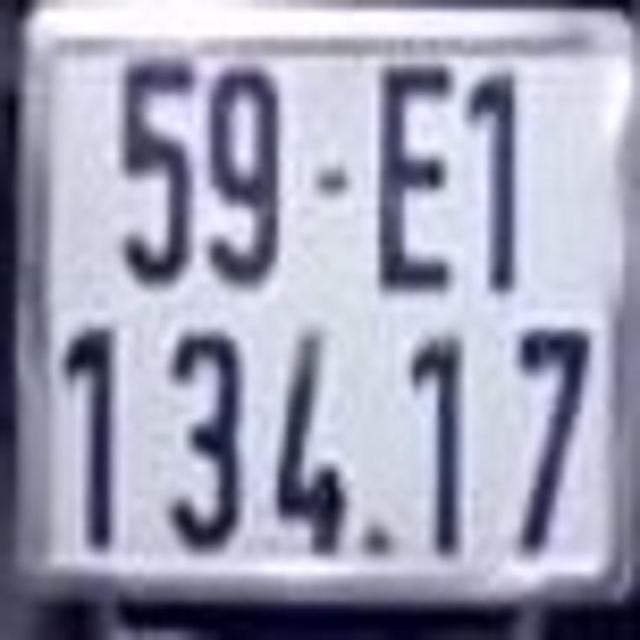1: (464, 69, 531, 294), (410, 330, 469, 561), (61, 324, 118, 550)
3: (167, 320, 241, 554)
4: (270, 329, 356, 561)
5: (120, 55, 194, 283)
7: (514, 320, 594, 565)
9: (206, 66, 285, 293)
E: (378, 59, 463, 287)
